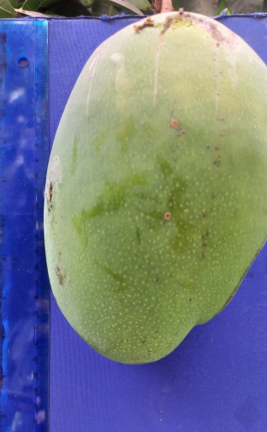Mango-sano: (44, 10, 266, 364)
